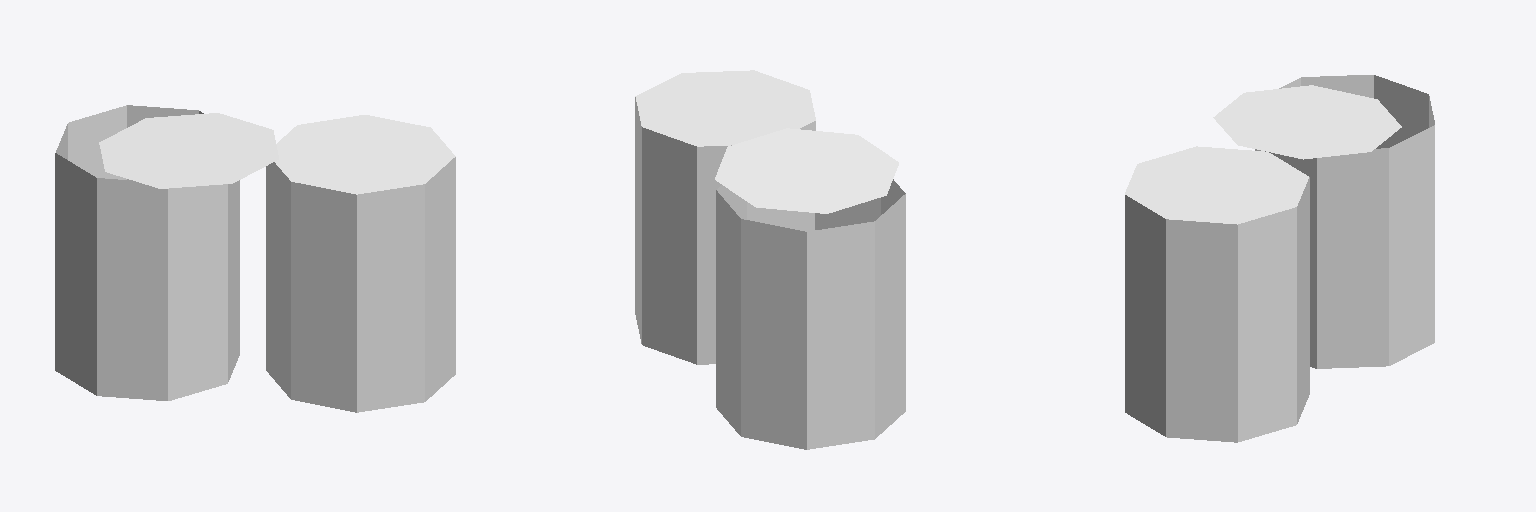
Rendered from assorted_metal_cans_1.obj.
3 renders of one model, left to right at view 1: azimuth 30°, elevation 25°; view 2: azimuth 150°, elevation 25°; view 3: azimuth 270°, elevation 25°, orthographic.
Visible parts, largest first — view 1: can_2, can_4, can_4_lid; view 2: can_4, can_2, can_4_lid; view 3: can_2, can_4, can_4_lid.
Part boxes in pixels (x1,y1,x2,y2): can_2: (266,115,455,412); can_4: (55,105,239,400); can_4_lid: (99,113,278,188); can_4: (716,179,905,449); can_2: (635,70,815,364); can_4_lid: (715,128,898,213); can_2: (1125,146,1309,442); can_4: (1255,75,1434,368); can_4_lid: (1213,85,1401,159).
Size of the model in its own units: 0.507 by 0.3521 by 0.4439.